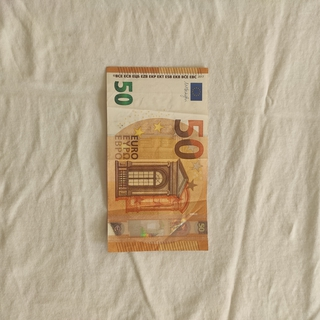50EUROFront: (105, 66, 209, 252)
